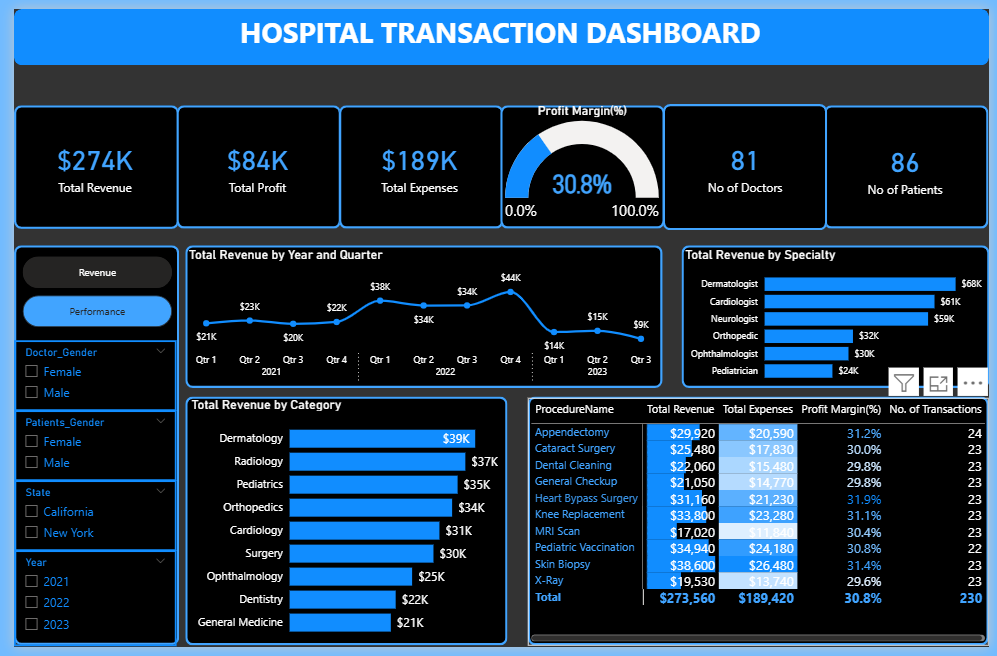

This screenshot's page, from the dashboard's own definition file:
{"tool":"powerbi","page":{"name":"Revenue","canvas":[1300,850],"ordinal":0},"visuals":[{"type":"shape","box":[0,0,1300,75],"z":0},{"type":"shape","box":[0,127.8,220,165],"z":1000},{"type":"shape","box":[1080.7,128.1,219.3,164.5],"z":2000},{"type":"shape","box":[216.7,128.1,219.3,164.5],"z":3000},{"type":"shape","box":[432.7,128.1,219.3,164.5],"z":4000},{"type":"shape","box":[648.7,128.1,219.3,164.5],"z":5000},{"type":"shape","box":[864.7,126.1,219.3,168.4],"z":6000},{"type":"shape","box":[0,315.5,220.3,533.1],"z":7000},{"type":"shape","box":[228.5,516.7,429.7,331.8],"z":8000},{"type":"shape","box":[228.5,315.5,636.4,190.4],"z":9000},{"type":"shape","box":[685.4,516.7,614.6,331.8],"z":10000},{"type":"shape","box":[889.3,315.5,410.7,190.4],"z":11000},{"type":"card","fields":{"Values":["Calculated Measures.Total Revenue"]},"box":[0,126.7,216.7,166.7],"z":12000},{"type":"card","fields":{"Values":["Calculated Measures.Total Profit"]},"box":[216.7,126.7,216.7,166.7],"z":13000},{"type":"card","fields":{"Values":["Calculated Measures.Total Expenses"]},"box":[433.3,126.7,215,166.7],"z":14000},{"type":"card","fields":{"Values":["CountNonNull(Patient Dim.PatientID)"]},"box":[1080,130,216.7,163.3],"z":15000},{"type":"gauge","fields":{"Y":["Calculated Measures.Profit Margin(%)"]},"box":[650,125,215,168.3],"z":16000},{"type":"card","fields":{"Values":["CountNonNull(Doctor Dim.DoctorID)"]},"box":[870,125,210,168.3],"z":17000},{"type":"lineChart","fields":{"Y":["Calculated Measures.Total Revenue"],"Category":["Calendar Dim.Date.Variation.Date Hierarchy.Year","Calendar Dim.Date.Variation.Date Hierarchy.Quarter","Calendar Dim.Date.Variation.Date Hierarchy.Month"]},"box":[228,316,636,190],"z":18000},{"type":"clusteredBarChart","fields":{"Y":["Calculated Measures.Total Revenue"],"Category":["Doctor Dim.Specialty"]},"box":[890,316,406,190],"z":19000},{"type":"clusteredBarChart","fields":{"Y":["Calculated Measures.Total Revenue"],"Category":["Procedure Dim.Category"]},"box":[231.4,517.1,427.1,331.4],"z":20000},{"type":"pivotTable","fields":{"Rows":["Procedure Dim.ProcedureName"],"Values":["Calculated Measures.Total Revenue","Calculated Measures.Total Expenses","Calculated Measures.Profit Margin(%)","CountNonNull(Hospital Transactions.TransactionID)"]},"box":[685.7,518.6,614.3,330],"z":21000},{"type":"slicer","fields":{"Values":["Patient Dim.Patients_Gender"]},"box":[0.7,534.8,217.1,94.3],"z":22000},{"type":"slicer","fields":{"Values":["Location Dim.State"]},"box":[0.7,628.3,217.1,94.3],"z":23000},{"type":"slicer","fields":{"Values":["Calendar Dim.Date.Variation.Date Hierarchy.Year"]},"box":[0,721.7,216.7,128.3],"z":24000},{"type":"slicer","fields":{"Values":["Doctor Dim.Doctor_Gender"]},"box":[0.7,441.4,217.1,94.3],"z":25000},{"type":"textbox","box":[0,0,1296.7,75],"z":26000},{"type":"pageNavigator","box":[11.4,330.4,199.4,94],"z":27000}]}

Visuals, with their boxes in screenshot pixels (x1, y1, x2, y2), scaled from the page's 1300x850 canvas onto the 997x656 screenshot:
shape: bbox=(0, 0, 996, 58)
shape: bbox=(0, 99, 169, 226)
shape: bbox=(829, 99, 996, 226)
shape: bbox=(166, 99, 334, 226)
shape: bbox=(332, 99, 500, 226)
shape: bbox=(498, 99, 666, 226)
shape: bbox=(663, 97, 831, 227)
shape: bbox=(0, 243, 169, 655)
shape: bbox=(175, 399, 505, 655)
shape: bbox=(175, 243, 663, 390)
shape: bbox=(526, 399, 996, 655)
shape: bbox=(682, 243, 996, 390)
card - Calculated Measures.Total Revenue: bbox=(0, 98, 166, 226)
card - Calculated Measures.Total Profit: bbox=(166, 98, 332, 226)
card - Calculated Measures.Total Expenses: bbox=(332, 98, 497, 226)
card - CountNonNull(Patient Dim.PatientID): bbox=(828, 100, 994, 226)
gauge - Calculated Measures.Profit Margin(%): bbox=(498, 96, 663, 226)
card - CountNonNull(Doctor Dim.DoctorID): bbox=(667, 96, 828, 226)
lineChart - Calculated Measures.Total Revenue x Calendar Dim.Date.Variation.Date Hierarchy.Year: bbox=(175, 244, 663, 391)
clusteredBarChart - Calculated Measures.Total Revenue x Doctor Dim.Specialty: bbox=(683, 244, 994, 391)
clusteredBarChart - Calculated Measures.Total Revenue x Procedure Dim.Category: bbox=(177, 399, 505, 655)
pivotTable - Procedure Dim.ProcedureName x Calculated Measures.Total Revenue: bbox=(526, 400, 996, 655)
slicer - Patient Dim.Patients_Gender: bbox=(1, 413, 167, 486)
slicer - Location Dim.State: bbox=(1, 485, 167, 558)
slicer - Calendar Dim.Date.Variation.Date Hierarchy.Year: bbox=(0, 557, 166, 655)
slicer - Doctor Dim.Doctor_Gender: bbox=(1, 341, 167, 413)
textbox: bbox=(0, 0, 994, 58)
pageNavigator: bbox=(9, 255, 162, 328)
